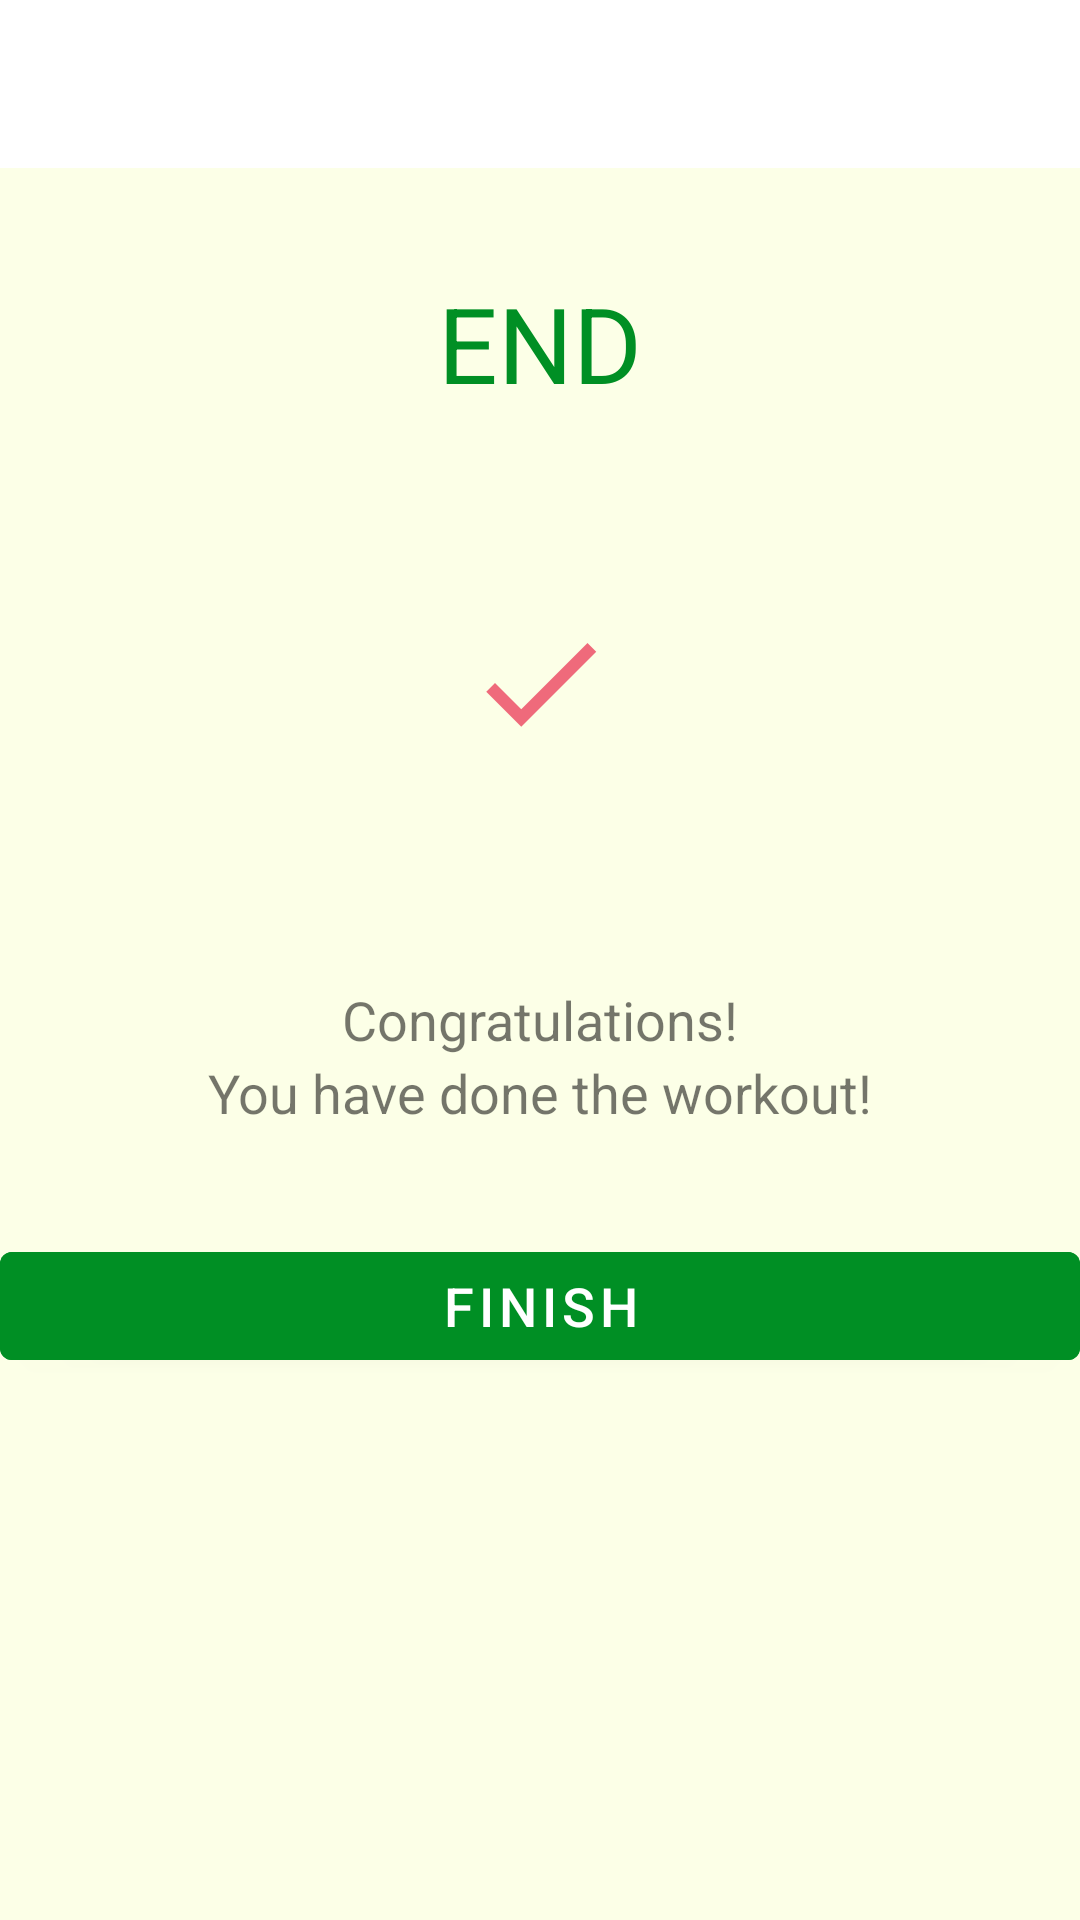

Locate icon controls on the screen. Image size 1080px x 1920px, boxes as (x1, y1, x2, y2).
done: (486, 643, 596, 727)
